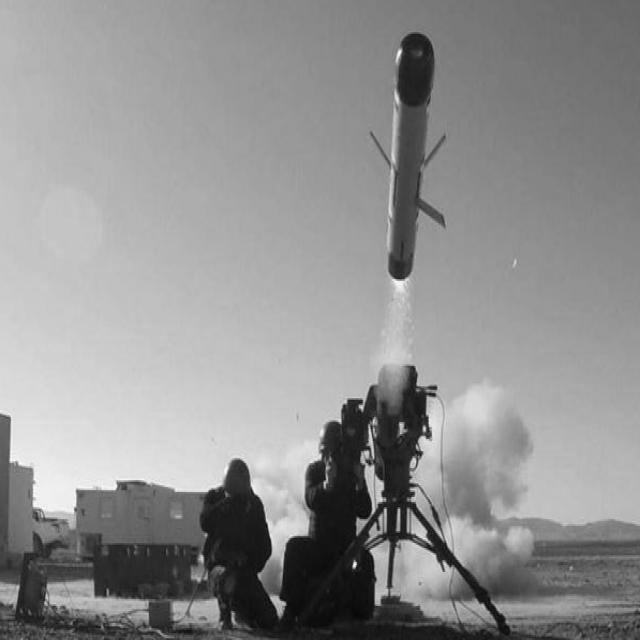missile: (367, 24, 445, 293)
